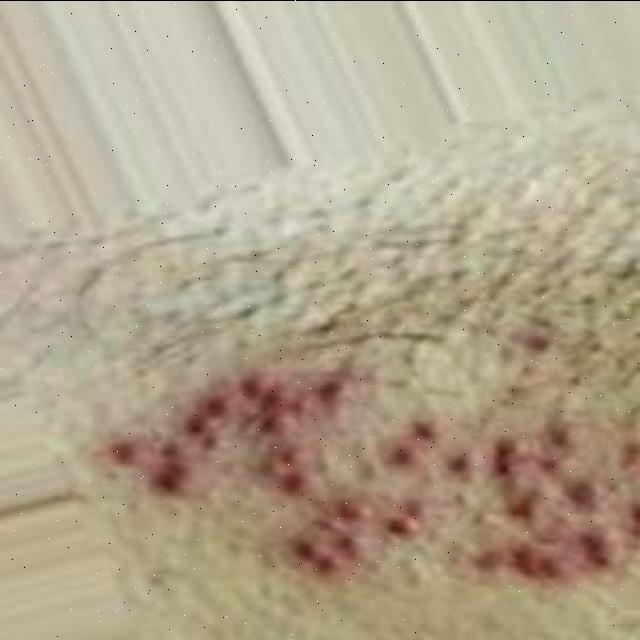Shingles: (114, 372, 634, 583)
